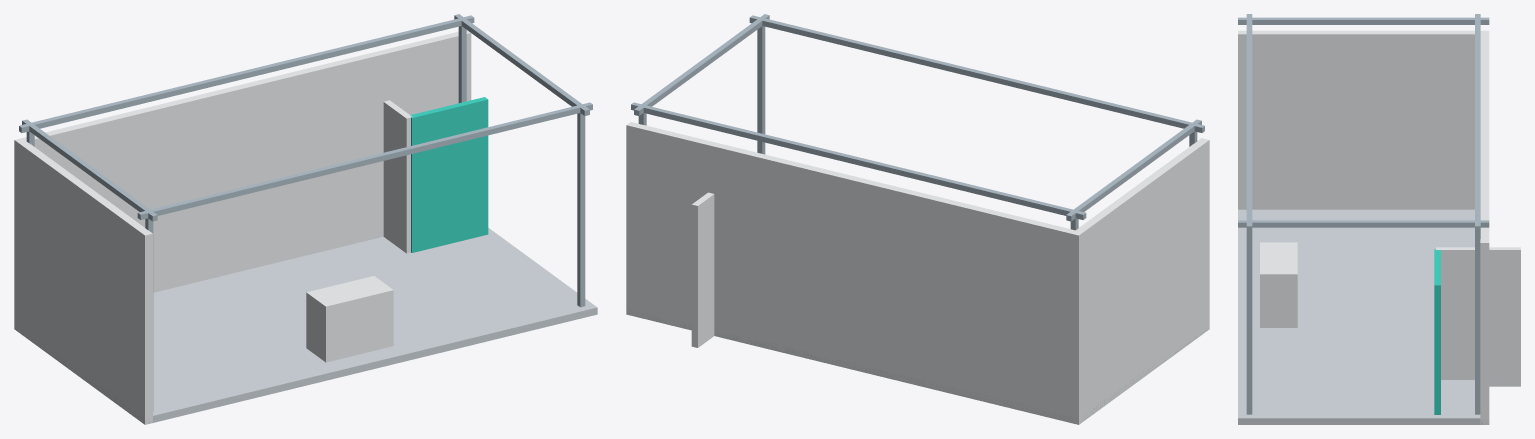
3 renders of one model, left to right at view 1: azimuth 30°, elevation 25°; view 2: azimuth 150°, elevation 25°; view 3: azimuth 270°, elevation 25°, orthographic. The views are drawn at different scales.
Visible parts, largest first — view 1: Exhibition Booth Concept; view 2: Exhibition Booth Concept; view 3: Exhibition Booth Concept.
Boxes of the visible parts, x1,y1,x2,y2 form: Exhibition Booth Concept: (14, 14, 597, 424); Exhibition Booth Concept: (626, 14, 1209, 424); Exhibition Booth Concept: (1238, 14, 1520, 424).
Bounding box in the file's own units: 8 × 3.49 × 4.51.
